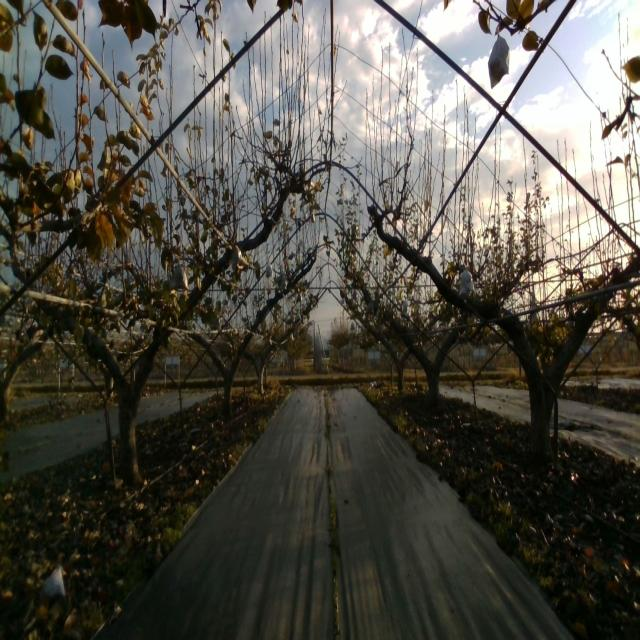pearbags: (488, 26, 509, 88), (169, 263, 189, 290), (458, 267, 475, 296), (230, 243, 242, 265)
